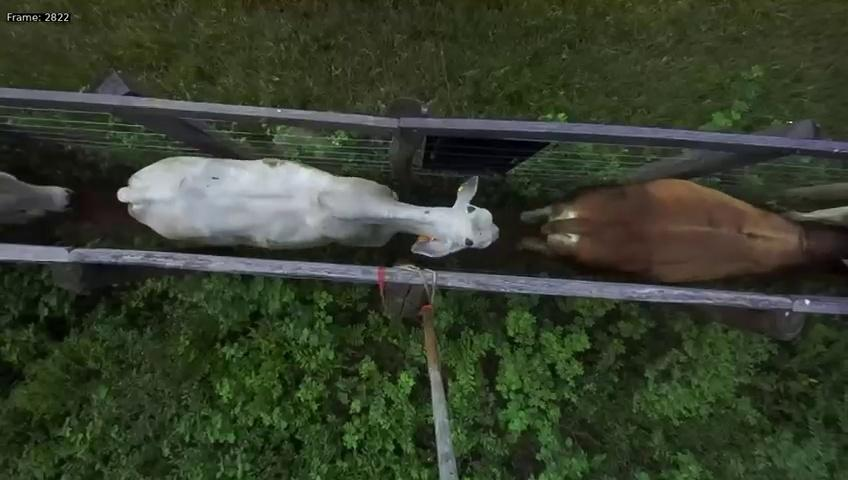cattle: (115, 138, 500, 262)
